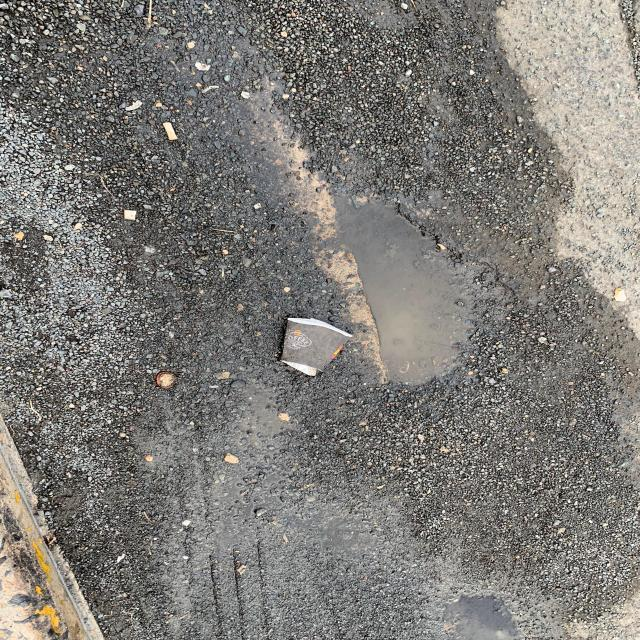litter: (280, 318, 352, 376)
